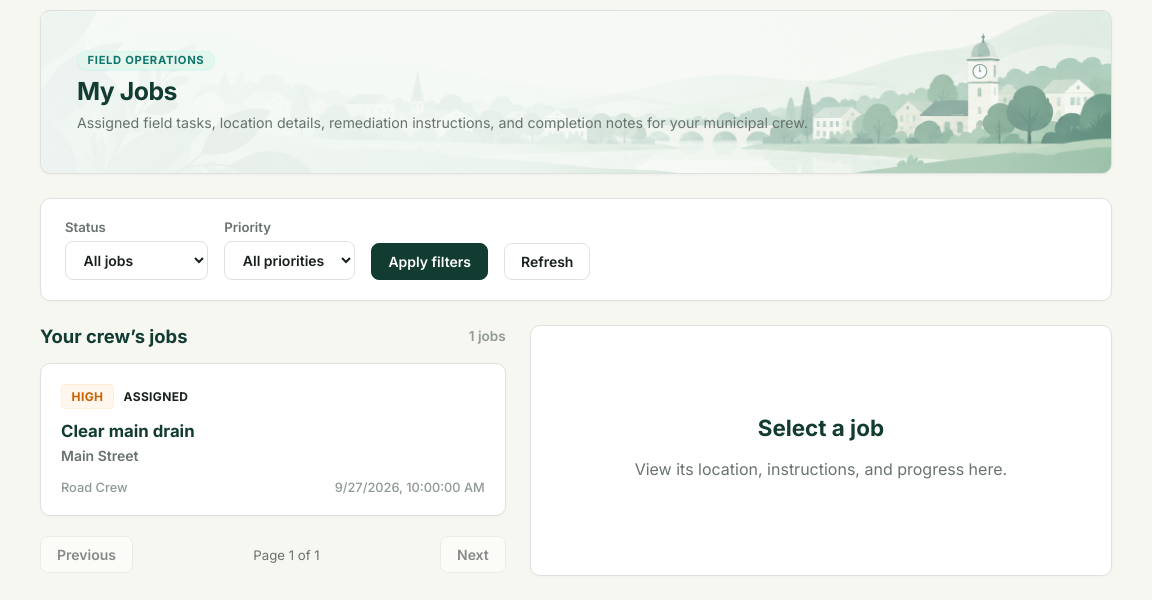
Scenario: WorkOrder screens and contracts › starts then completes a job with notes and renders its history
This screenshot has width=1152, height=600.
Click the button "Clear main drain" at (87, 396), box [40, 363, 506, 516]
(page scrolled)
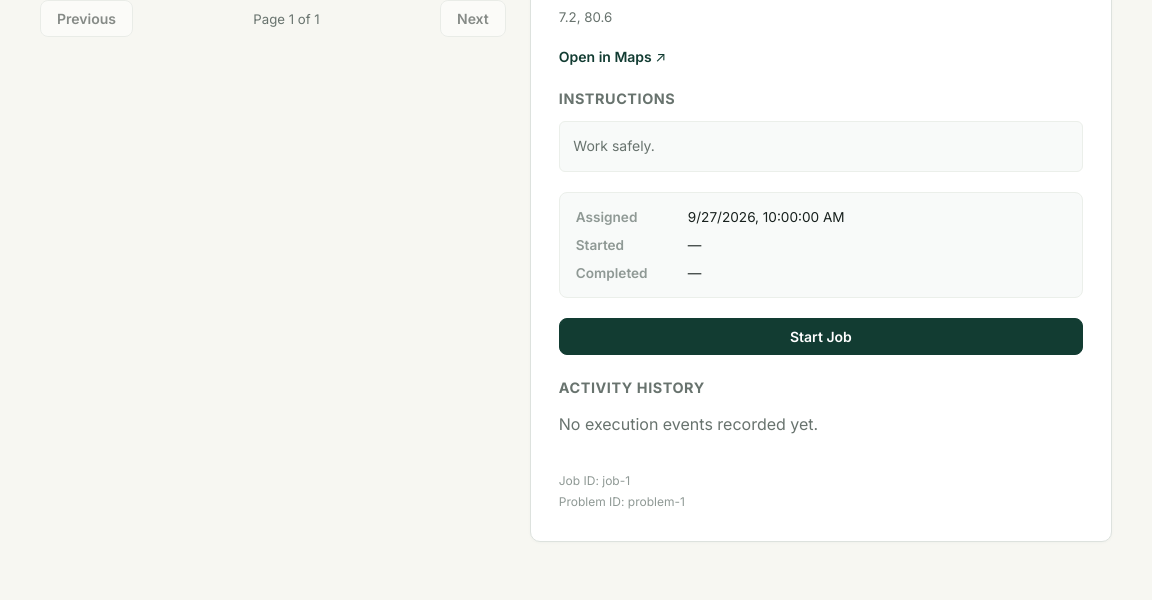
Click the button "Start Job" at (821, 337), box [559, 318, 1083, 355]
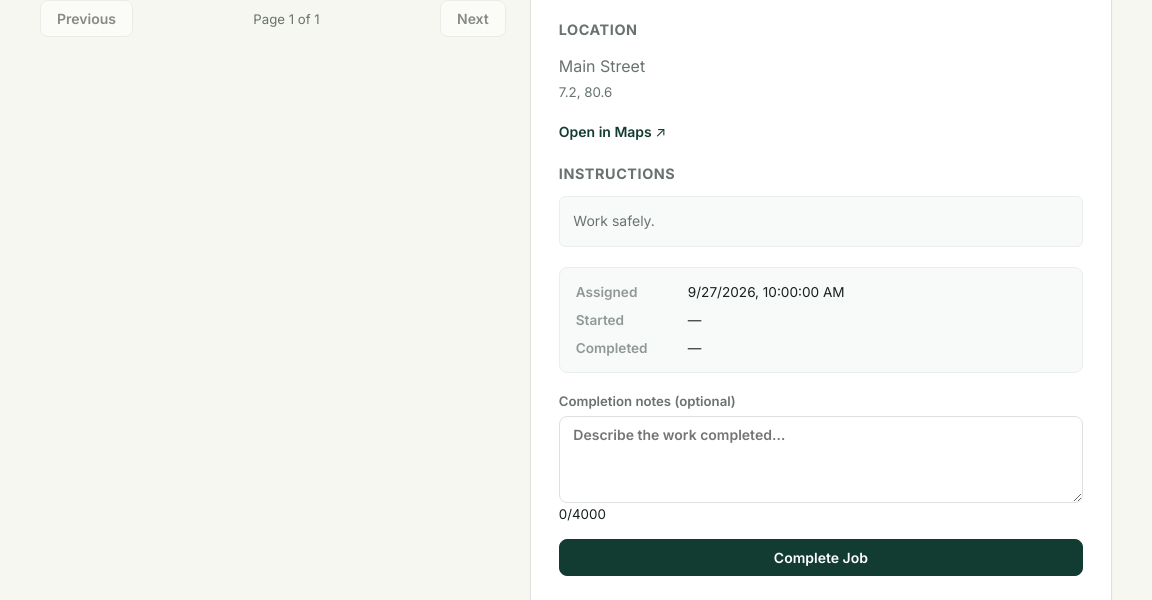
Type "Repaired" into the text box labelled "Completion notes (optional)" at (821, 460), box [559, 416, 1083, 503]
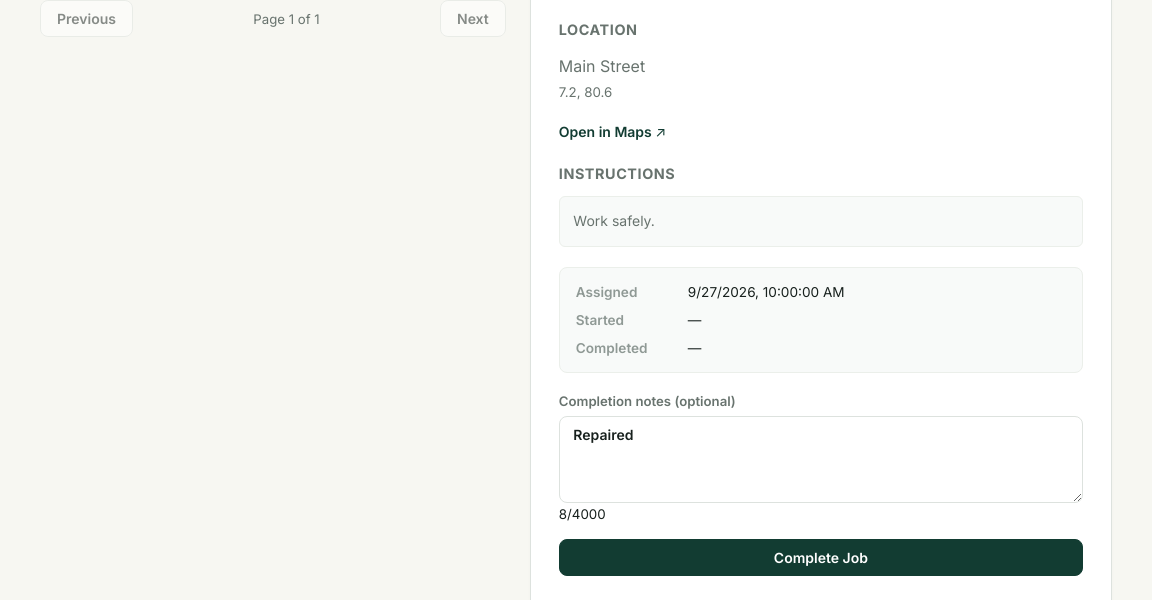
Click the button "Complete Job" at (821, 558), box [559, 539, 1083, 576]
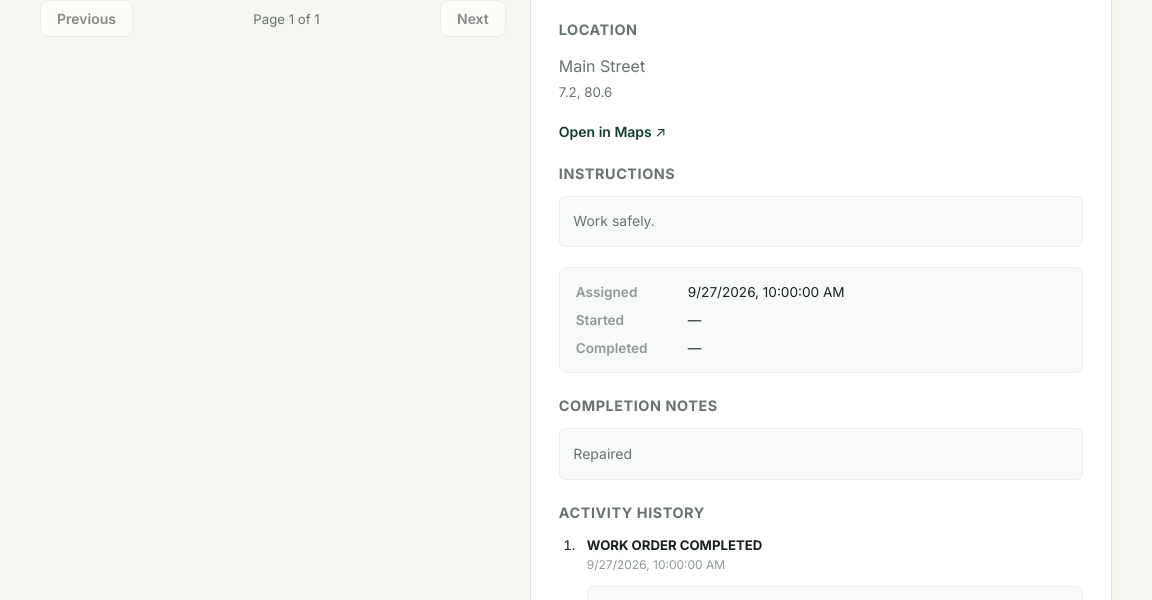
Check: the text "WORK ORDER COMPLETED" is shown, box [587, 537, 762, 553]
Check: the button "Complete Job" is gone
